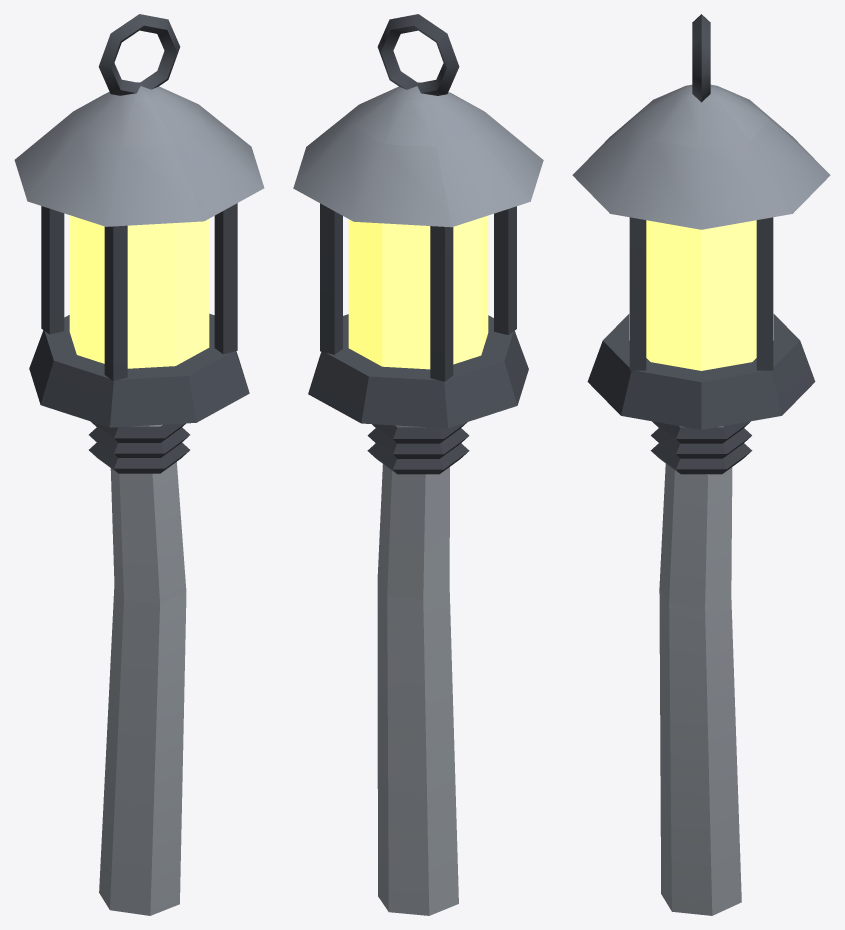
File: path_lantern.glb
3 renders of one model, left to right at view 1: azimuth 30°, elevation 25°; view 2: azimuth 150°, elevation 25°; view 3: azimuth 270°, elevation 25°, orthographic.
Visible parts, largest first — view 1: lantern_body; view 2: lantern_body; view 3: lantern_body.
Boxes of the visible parts, x1=… form: lantern_body: x1=14, y1=14, x2=264, y2=915; lantern_body: x1=293, y1=14, x2=543, y2=915; lantern_body: x1=572, y1=14, x2=830, y2=915.
Size of the model in its own units: 0.34 by 1.28 by 0.34.
